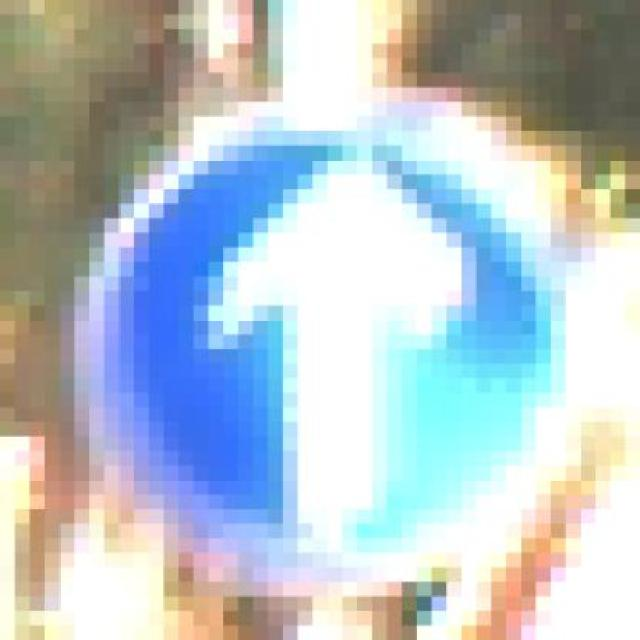Straight Ahead Only: (74, 58, 566, 582)
